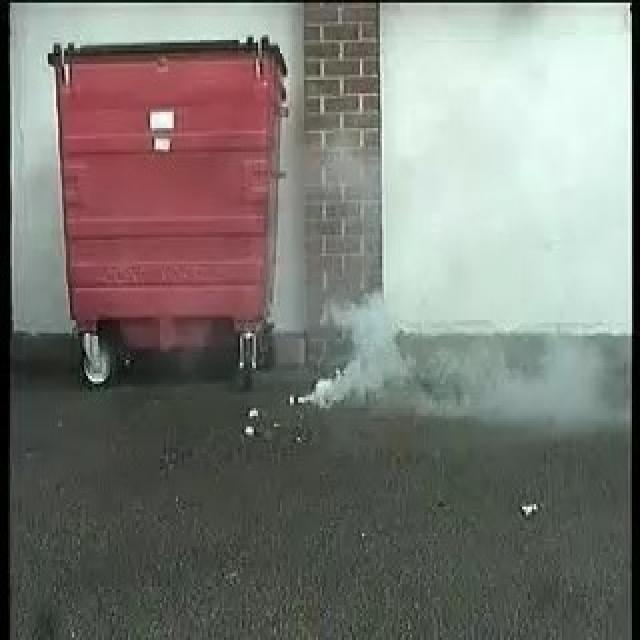smoke: (294, 298, 466, 427)
